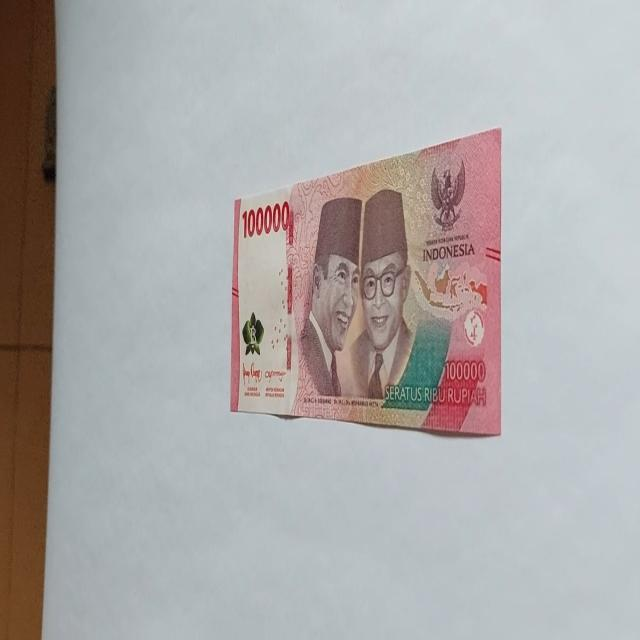seratus ribu rupiah: (230, 126, 502, 436)
